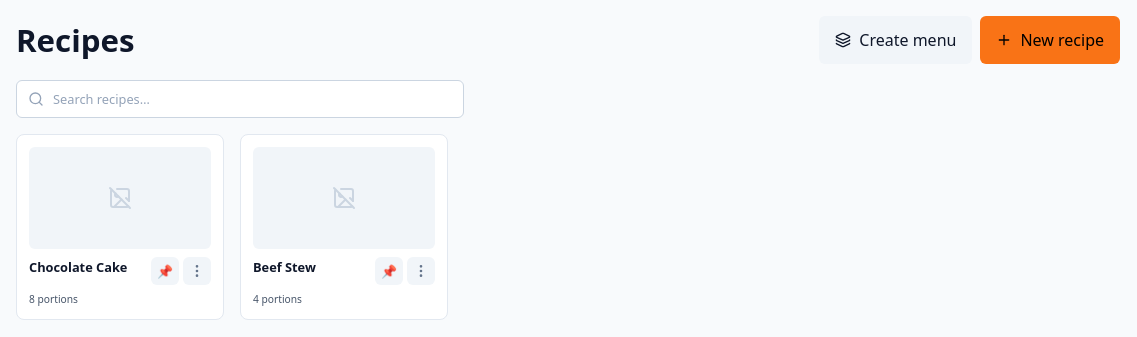
RecipesLibrary › entering select mode renders checkbox toggles on each card
The width and height of the screenshot is (1137, 337).
Check: the link "Beef Stew" is shown, box [253, 258, 316, 276]
Click the button with test id "recipes-create-menu-button".
click(896, 40)  # box [819, 16, 972, 64]
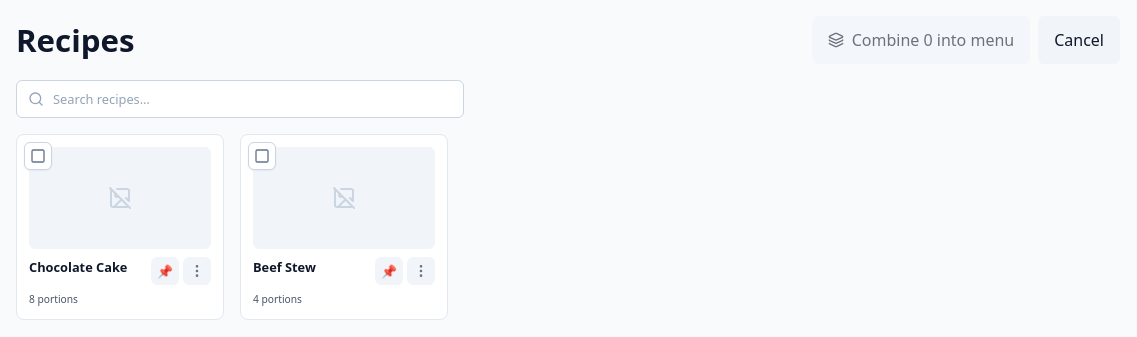
Check: the button with test id "recipes-select-checkbox-r_test_001" is shown, box [248, 142, 276, 170]
Check: the button with test id "recipes-select-checkbox-r_test_002" is shown, box [24, 142, 52, 170]
Check: the button with test id "recipes-combine-button" is disabled, box [812, 16, 1030, 64]
